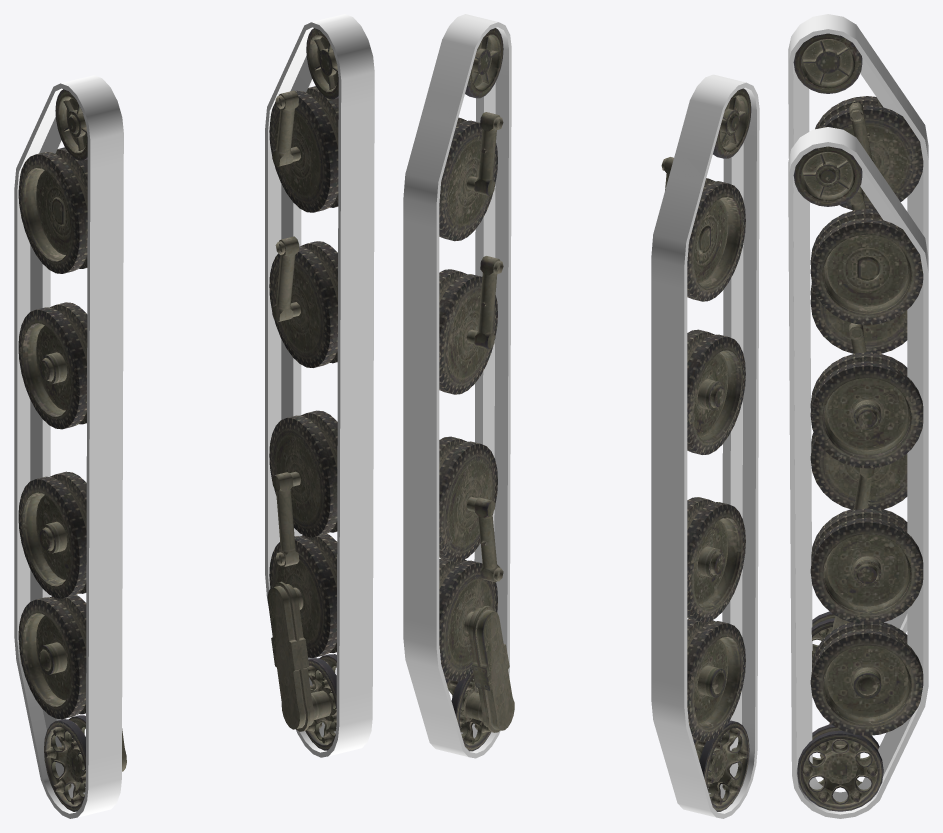
The model's file is Chassis.glb.
The picture shows the model from 3 angles, left to right: view 1: azimuth 30°, elevation 25°; view 2: azimuth 150°, elevation 25°; view 3: azimuth 270°, elevation 25°; orthographic projection. The views are drawn at different scales.
Parts seen in each view (by area): view 1: set_1_group_0, set_3_group_0, set_0_group_0, set_2_group_0; view 2: set_1_group_0, set_0_group_0, set_3_group_0, set_2_group_0; view 3: set_3_group_0, set_0_group_0, set_2_group_0, set_1_group_0.
Part boxes in pixels (x1,y1,x2,y2): set_1_group_0: (14,75,123,818); set_3_group_0: (267,28,338,750); set_0_group_0: (265,14,374,757); set_2_group_0: (18,89,126,811); set_1_group_0: (651,74,759,818); set_0_group_0: (403,14,511,758); set_3_group_0: (439,28,514,751); set_2_group_0: (661,88,751,811); set_3_group_0: (793,146,923,811); set_0_group_0: (788,127,928,818); set_2_group_0: (793,33,923,659); set_1_group_0: (788,14,928,697).
Bounding box in the file's own units: 2.29 × 5.48 × 1.03.
Materials: 4 (2 with a texture image).
